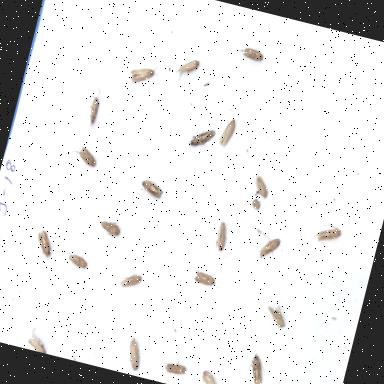pbw: (82, 86, 103, 130), (128, 60, 160, 88), (172, 56, 200, 86), (314, 220, 345, 247), (122, 336, 145, 372), (189, 266, 223, 290), (244, 352, 269, 384), (188, 124, 216, 152), (262, 302, 290, 329), (26, 324, 52, 353), (256, 235, 282, 263), (138, 176, 166, 202), (70, 145, 100, 169), (32, 228, 55, 259), (217, 116, 237, 148), (234, 43, 266, 63), (249, 172, 272, 199), (159, 355, 188, 376), (118, 267, 143, 290), (212, 222, 230, 252), (95, 219, 122, 238), (64, 252, 89, 270), (198, 369, 222, 384)
